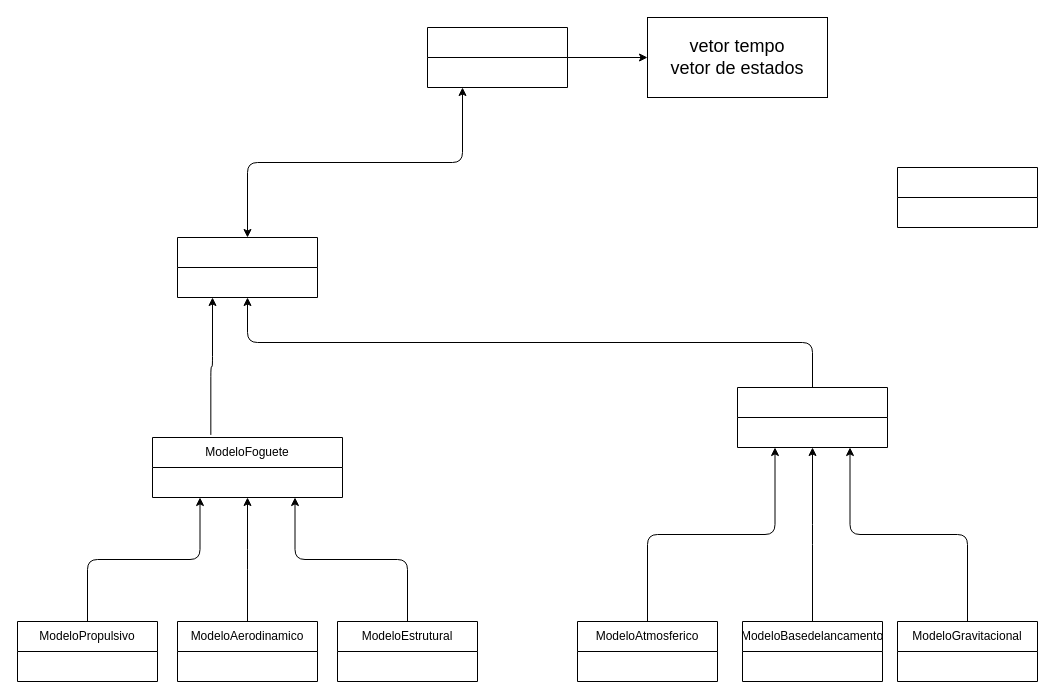
This 1055x699 diagram has some shape labels left out. The shapes that lost their labels are listed below. From the top down, each one's centre as x and y in pixels, then its label:
the point at 497,57: simulacao
the point at 967,197: resultados
the point at 247,267: dinamica_foguete
the point at 812,417: ModeloPlaneta
